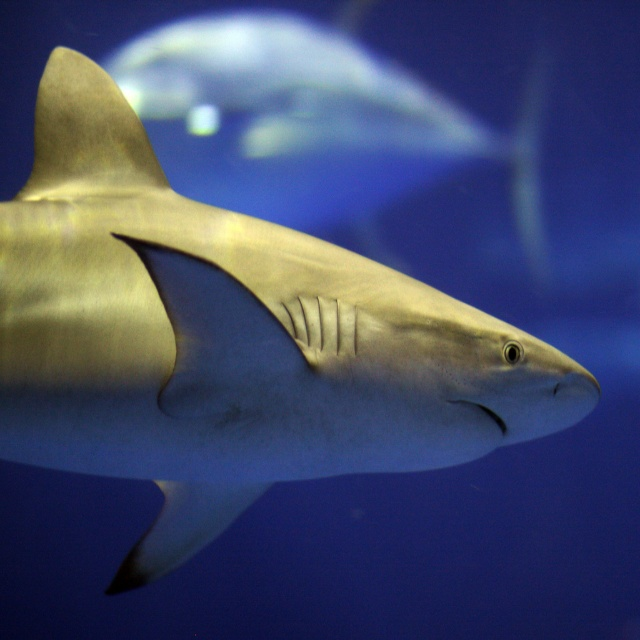Shark: (3, 42, 603, 590)
